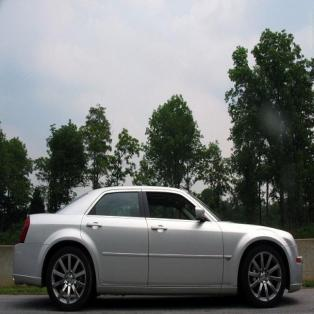Auto: (12, 183, 304, 312)
